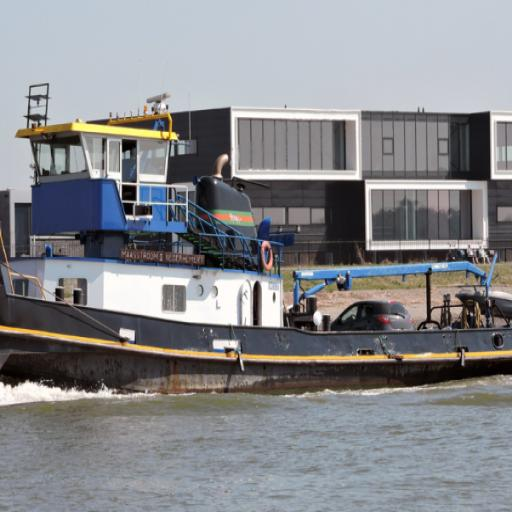tugboat: (1, 81, 512, 403)
